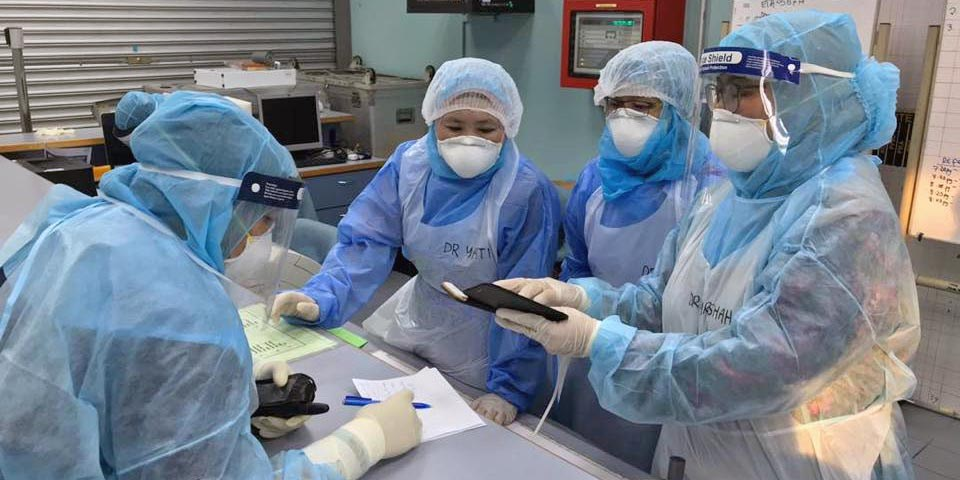Coverall: (1, 84, 365, 480), (626, 11, 923, 478), (311, 51, 556, 424), (555, 32, 710, 451)
Face_Shield: (680, 42, 858, 216), (205, 161, 310, 346)
Gloves: (316, 383, 430, 471), (489, 304, 607, 365), (452, 273, 598, 317), (265, 287, 323, 330), (463, 388, 516, 431)
with_mask: (707, 66, 775, 175), (226, 204, 284, 302), (432, 106, 504, 182), (598, 93, 664, 160)
